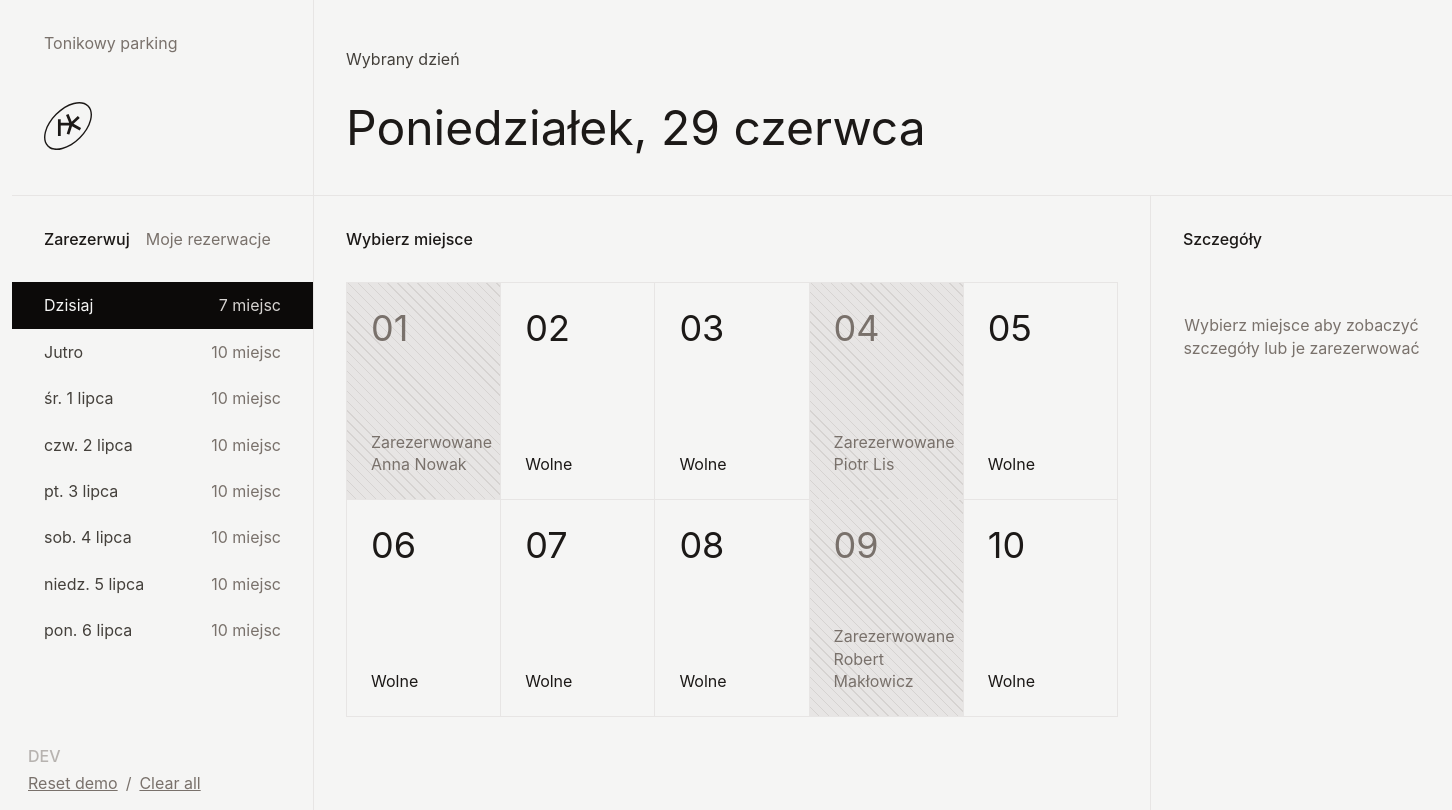
Test case: App › switches to My reservations when its tab is clicked
Click the button "Moje rezerwacje": {"x": 208, "y": 239} [146,228,271,250]
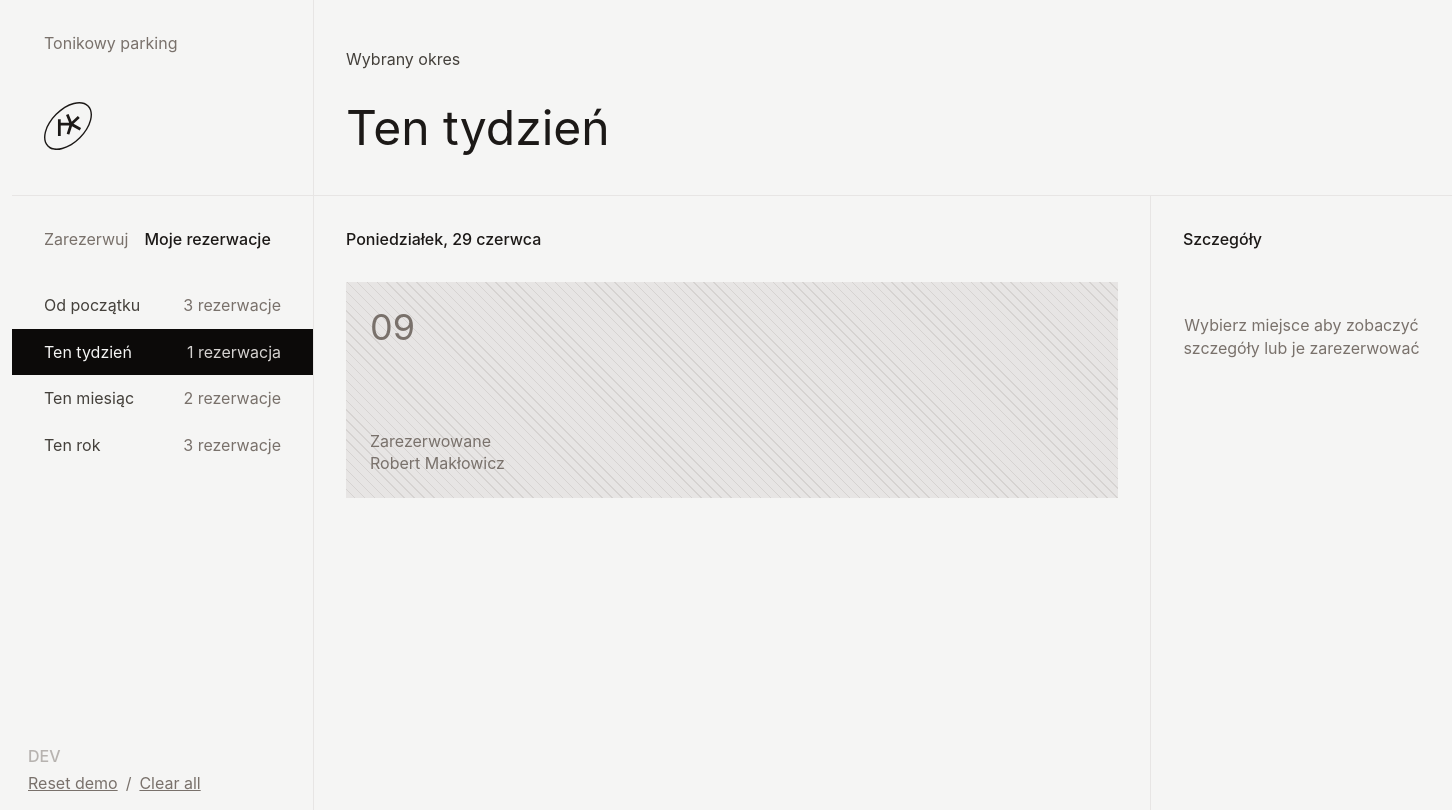
Check: the heading "Ten tydzień" is shown, box [346,102,610,155]
